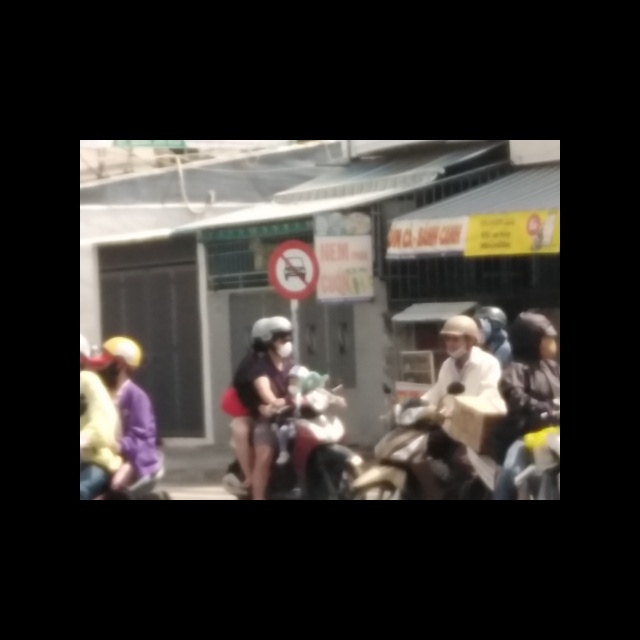Cấm xe ô tô: (267, 238, 322, 302)
